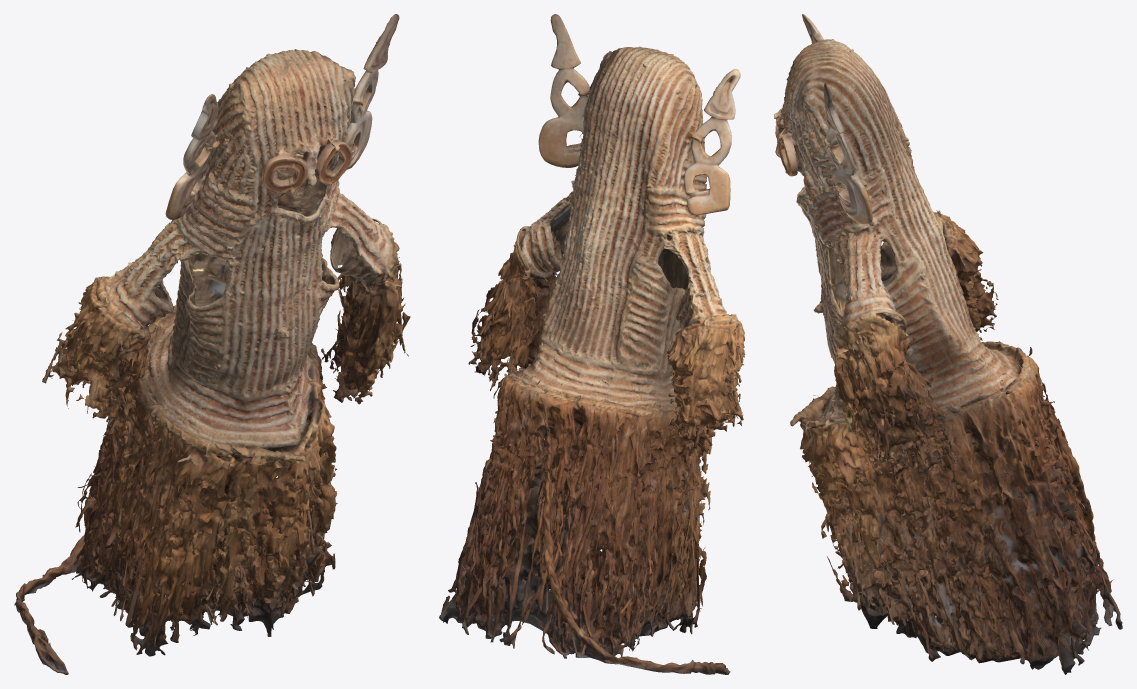
The model's file is body_mask_asmat.glb.
3 views of the same model, side by side, from view 1: azimuth 30°, elevation 25°; view 2: azimuth 150°, elevation 25°; view 3: azimuth 270°, elevation 25° (orthographic). The views are drawn at different scales.
Parts seen in each view (by area): view 1: ADVIMG_1978_412_1282a_BodyMask_n3d; view 2: ADVIMG_1978_412_1282a_BodyMask_n3d; view 3: ADVIMG_1978_412_1282a_BodyMask_n3d.
Part boxes in pixels (box(x1,y1,x2,y2)): ADVIMG_1978_412_1282a_BodyMask_n3d: box(14, 14, 410, 674); ADVIMG_1978_412_1282a_BodyMask_n3d: box(439, 14, 745, 674); ADVIMG_1978_412_1282a_BodyMask_n3d: box(774, 14, 1122, 674).
Size of the model in its own units: 0.911 by 1.68 by 0.8523.
1 material, 1 textured.
